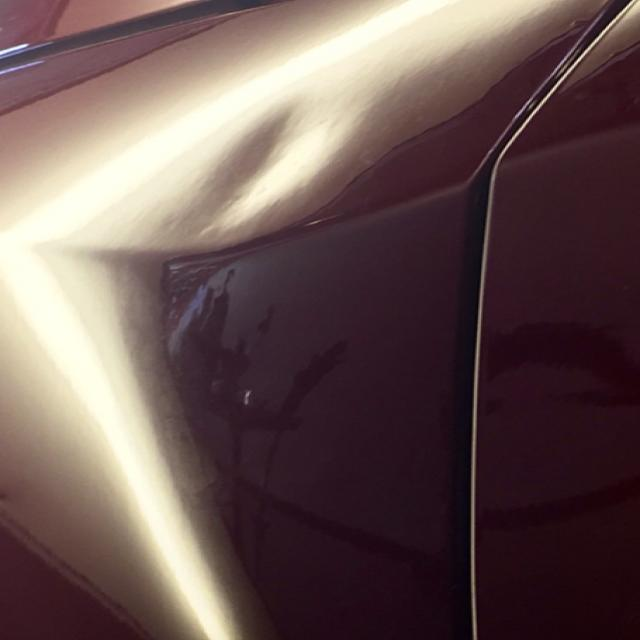dents: (172, 84, 334, 250)
